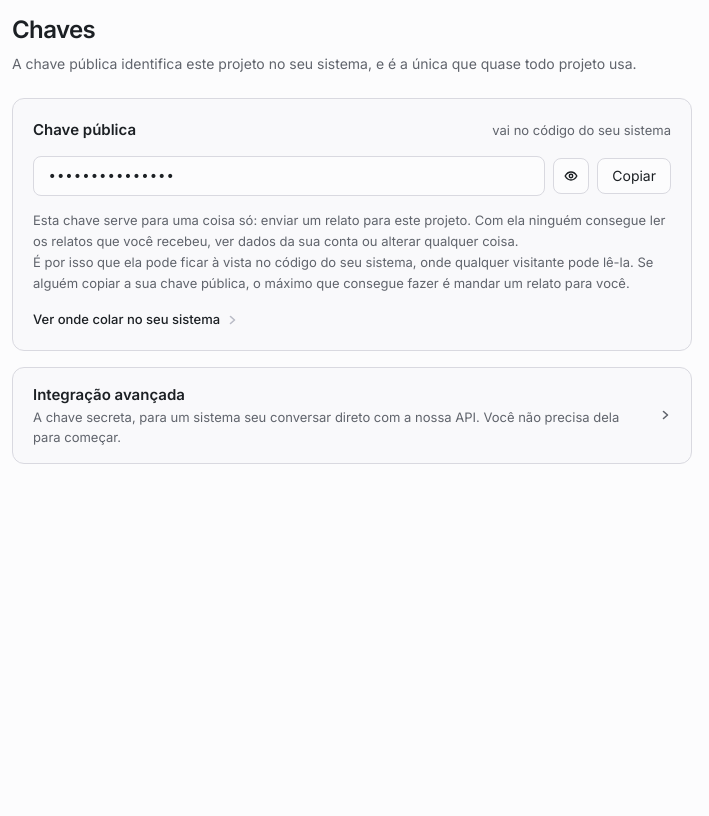
ProjectKeysScreen › projeto sem secreta diz que ainda não tem, e oferece gerar a primeira
Click the button "Integração avançada" at (352, 415), box [13,368,691,463]
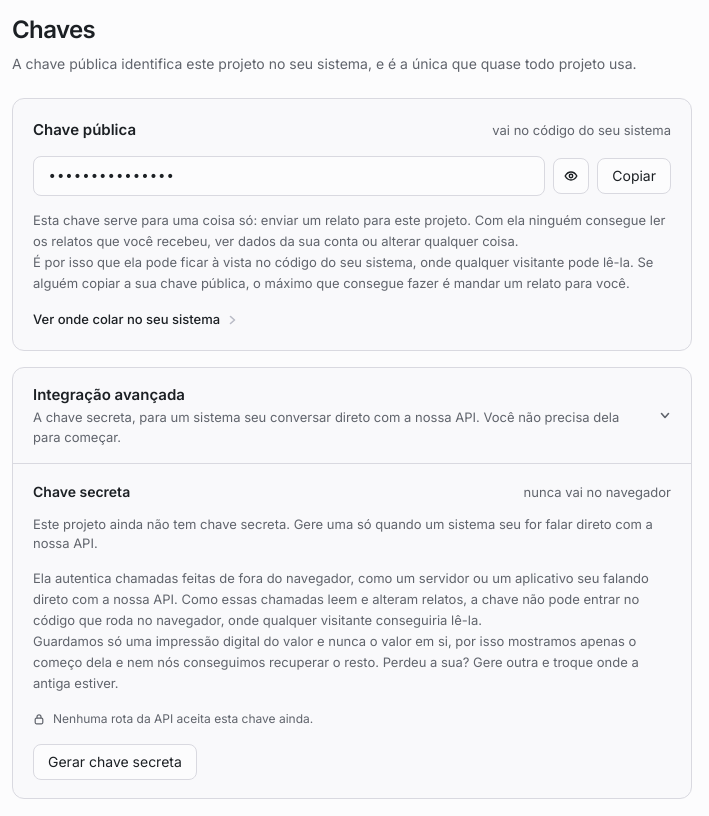
Expected: the text "Este projeto ainda não tem chave secreta" is shown, [33,516,653,551]
Expected: the button "Gerar chave secreta" is shown, [33,744,197,780]
